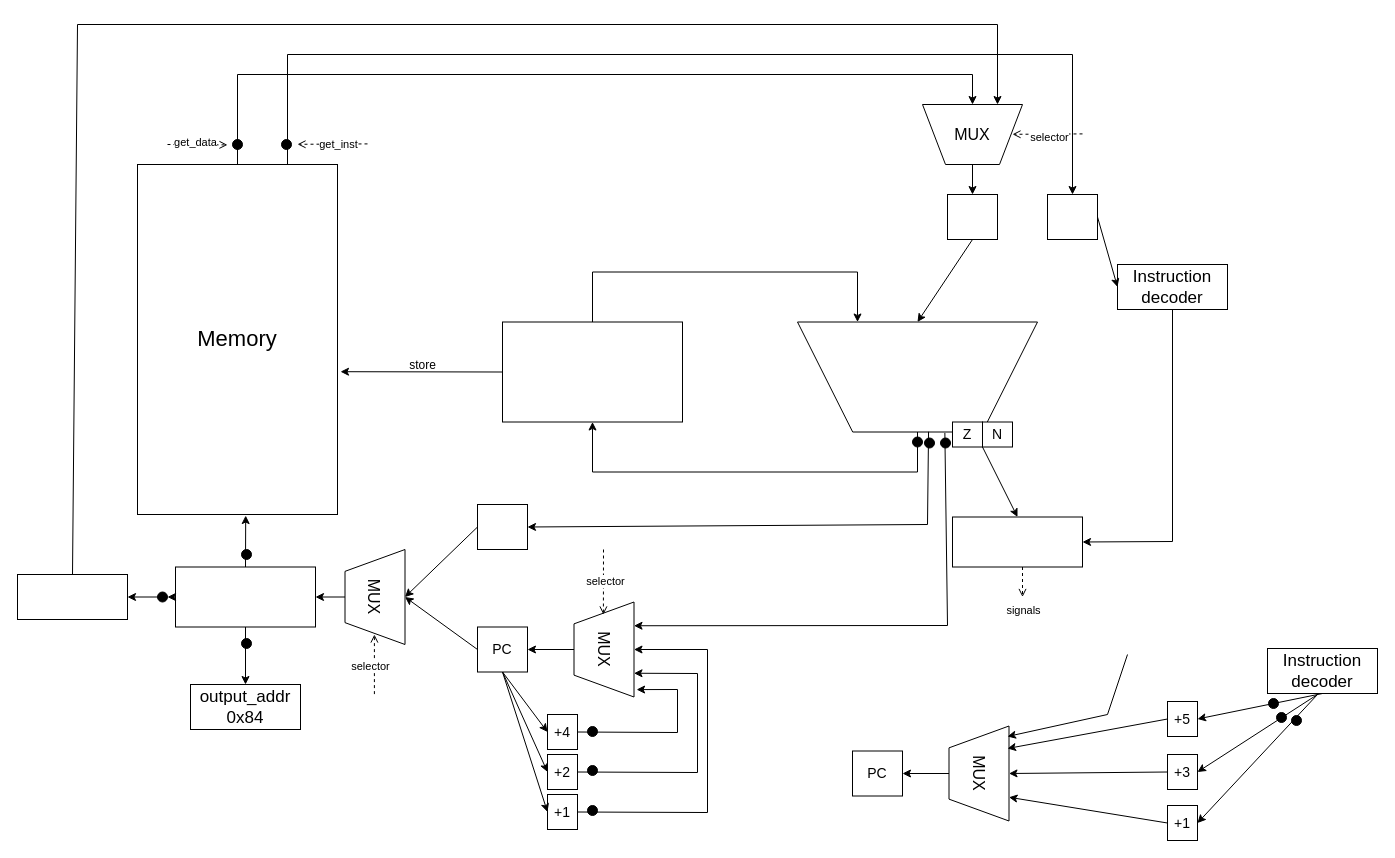
Some shapes in this 1395 by 858 pixel diagram are drawn without their labels. The box of each missing label's shape, as (x1, y1, x2, y2) in pixels:
Acc: (502, 321, 682, 422)
Address decoder: (174, 566, 316, 627)
ALU: (796, 321, 1038, 432)
AR: (476, 504, 528, 550)
CU: (952, 516, 1082, 567)
DR: (946, 194, 998, 240)
input_addr 0x80: (16, 574, 128, 620)
IR: (1046, 194, 1098, 240)
